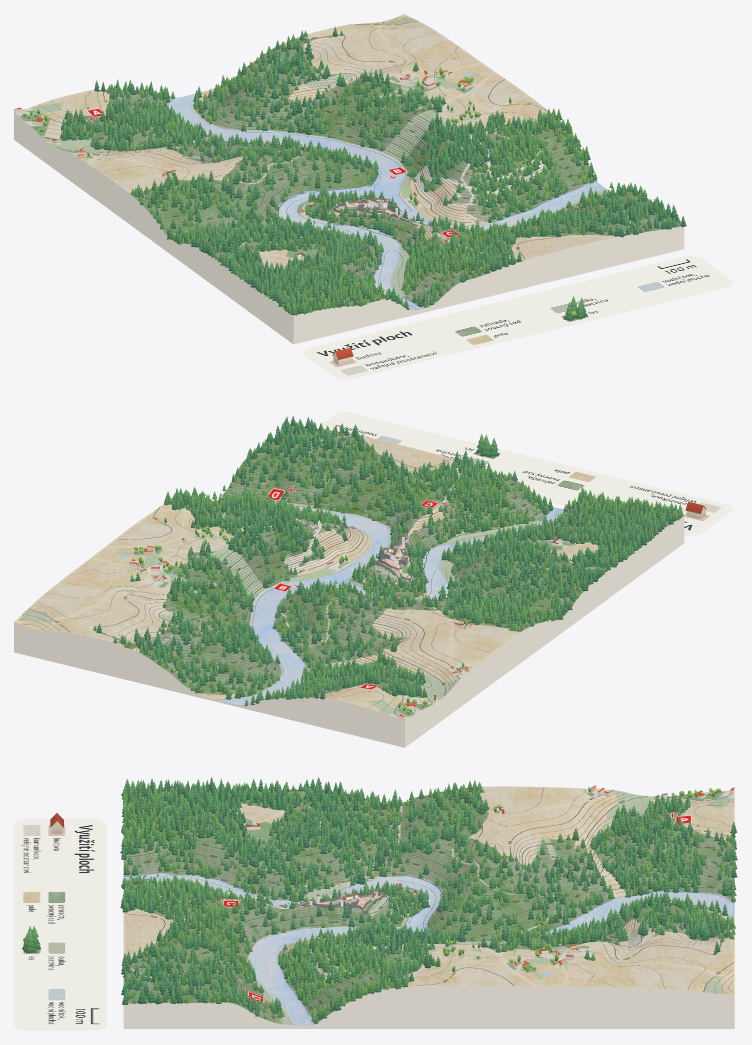
File: Zvikov_sada2_otazka2.glb
The picture shows the model from 3 angles, top to bottom: view 1: azimuth 30°, elevation 25°; view 2: azimuth 150°, elevation 25°; view 3: azimuth 270°, elevation 25°; orthographic projection. The views are drawn at different scales.
Visible parts, largest first — view 1: DMR_1953, Zvikov_stromy_body_SMO5, legenda_panel, vrstevnice, Zvikov_SMO5_budovy, Node0, legenda_objekty, popisky; view 2: DMR_1953, Zvikov_stromy_body_SMO5, legenda_panel, vrstevnice, Zvikov_SMO5_budovy, Node0, legenda_objekty, popisky; view 3: DMR_1953, Zvikov_stromy_body_SMO5, legenda_panel, vrstevnice, Zvikov_SMO5_budovy, Node0, popisky, legenda_objekty.
Boxes of the visible parts, x1,y1,x2,y2 form: DMR_1953: (14,14,684,344); Zvikov_stromy_body_SMO5: (23,26,686,315); legenda_panel: (303,256,732,379); vrstevnice: (22,16,678,309); Zvikov_SMO5_budovy: (14,70,471,258); Node0: (328,197,411,222); legenda_objekty: (332,295,587,365); popisky: (75,23,619,296); DMR_1953: (14,425,684,747); Zvikov_stromy_body_SMO5: (93,415,683,714); legenda_panel: (316,412,732,535); vrstevnice: (19,430,624,716); Zvikov_SMO5_budovy: (129,538,561,719); Node0: (373,535,411,583); legenda_objekty: (476,433,706,519); popisky: (54,438,570,692); DMR_1953: (123,786,734,1028); Zvikov_stromy_body_SMO5: (120,777,737,1023); legenda_panel: (14,818,106,1030); vrstevnice: (124,787,733,1023); Zvikov_SMO5_budovy: (246,785,734,968); Node0: (295,889,386,914); popisky: (133,794,724,1018); legenda_objekty: (22,813,63,953).
Bounding box in the file's own units: 1491 × 188 × 2151.
11 materials, 7 textured.
